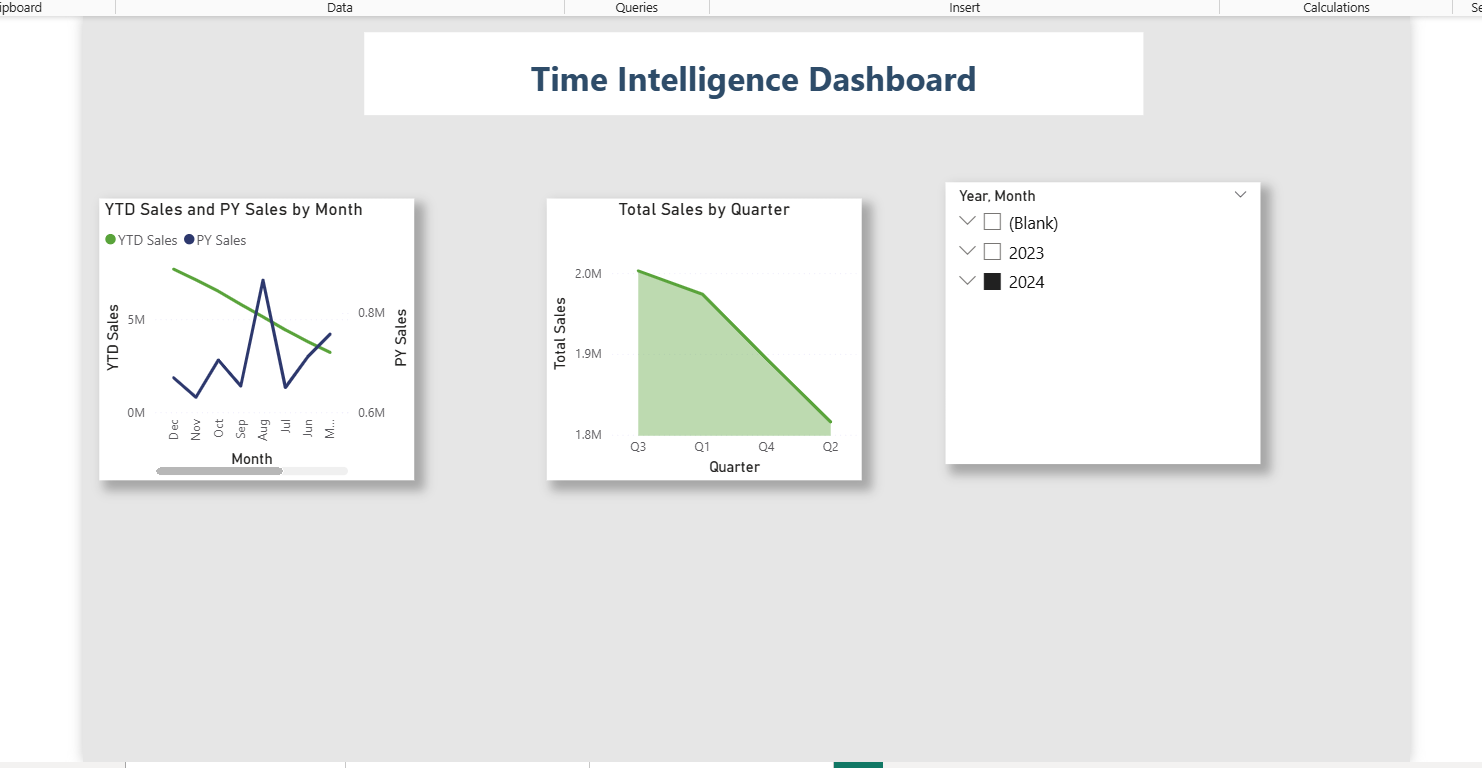

This screenshot's page, from the dashboard's own definition file:
{"tool":"powerbi","page":{"name":"Time intelligence dashboard","canvas":[1280,720],"ordinal":1},"visuals":[{"type":"lineChart","fields":{"Category":["Calendar.Month"],"Y":["measures (2).YTD Sales"],"Y2":["measures (2).PY Sales"]},"box":[16,176,304,272],"z":0},{"type":"areaChart","fields":{"Category":["Calendar.Quarter"],"Y":["measures (2).Total Sales"]},"box":[448,176,304,272],"z":1000},{"type":"slicer","fields":{"Values":["Calendar.Year","Calendar.Month"]},"box":[832,160,304,272],"z":2000},{"type":"textbox","box":[272,16,752,80],"z":3000}]}

Visuals, with their boxes on the page's 1280x720 design canvas (x1, y1, x2, y2). These are canvas units, not pixel positions in the 1482x768 screenshot, which may show the page scaled, cropped or inside an application window:
lineChart - Calendar.Month x measures (2).YTD Sales: 16,176,320,448
areaChart - Calendar.Quarter x measures (2).Total Sales: 448,176,752,448
slicer - Calendar.Year x Calendar.Month: 832,160,1136,432
textbox: 272,16,1024,96
